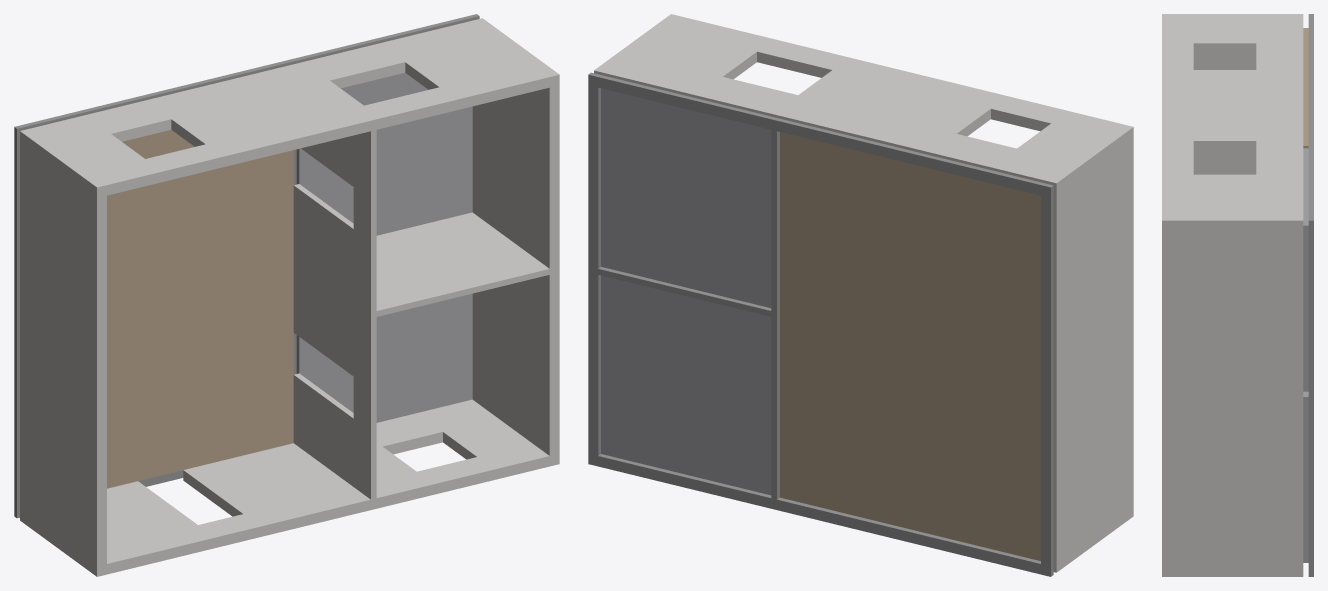
3 renders of one model, left to right at view 1: azimuth 30°, elevation 25°; view 2: azimuth 150°, elevation 25°; view 3: azimuth 270°, elevation 25°, orthographic. The views are drawn at different scales.
Parts seen in each view (by area): view 1: geometry_0, geometry_13, geometry_2, geometry_1, geometry_3, geometry_15, geometry_14, geometry_16, geometry_7, geometry_9, geometry_8, geometry_11 (+5 smaller); view 2: geometry_13, geometry_2, geometry_14, geometry_15, geometry_16, geometry_3, geometry_0, geometry_7, geometry_8, geometry_9, geometry_10; view 3: geometry_0, geometry_3, geometry_2, geometry_16, geometry_7, geometry_15, geometry_9, geometry_8, geometry_14, geometry_10, geometry_13.
Part boxes in pixels (left/top/right/bottom): geometry_0: left=293, top=18, right=559, bottom=479; geometry_13: left=107, top=129, right=293, bottom=488; geometry_2: left=20, top=115, right=215, bottom=576; geometry_1: left=183, top=373, right=433, bottom=536; geometry_3: left=146, top=62, right=381, bottom=199; geometry_15: left=296, top=73, right=472, bottom=235; geometry_14: left=296, top=293, right=472, bottom=422; geometry_16: left=14, top=14, right=479, bottom=518; geometry_7: left=304, top=43, right=405, bottom=88; geometry_9: left=85, top=100, right=171, bottom=141; geometry_8: left=364, top=87, right=456, bottom=128; geometry_11: left=376, top=413, right=442, bottom=454; geometry_13: left=780, top=132, right=1040, bottom=560; geometry_2: left=991, top=111, right=1133, bottom=572; geometry_14: left=601, top=275, right=771, bottom=495; geometry_15: left=601, top=88, right=771, bottom=307; geometry_16: left=588, top=72, right=1053, bottom=576; geometry_3: left=772, top=57, right=1007, bottom=155; geometry_0: left=594, top=14, right=773, bottom=98; geometry_7: left=697, top=77, right=797, bottom=116; geometry_8: left=757, top=39, right=849, bottom=77; geometry_9: left=931, top=134, right=1016, bottom=169; geometry_10: left=991, top=96, right=1067, bottom=131; geometry_0: left=1162, top=174, right=1303, bottom=576; geometry_3: left=1162, top=70, right=1303, bottom=174; geometry_2: left=1162, top=14, right=1303, bottom=69; geometry_16: left=1308, top=14, right=1313, bottom=576; geometry_7: left=1256, top=141, right=1303, bottom=174; geometry_15: left=1303, top=148, right=1308, bottom=391; geometry_9: left=1256, top=43, right=1303, bottom=69; geometry_8: left=1162, top=141, right=1193, bottom=174; geometry_14: left=1303, top=391, right=1308, bottom=562; geometry_10: left=1162, top=43, right=1193, bottom=69; geometry_13: left=1303, top=28, right=1308, bottom=148.
Size of the model in its own units: 9.35 by 7.52 by 2.9.
